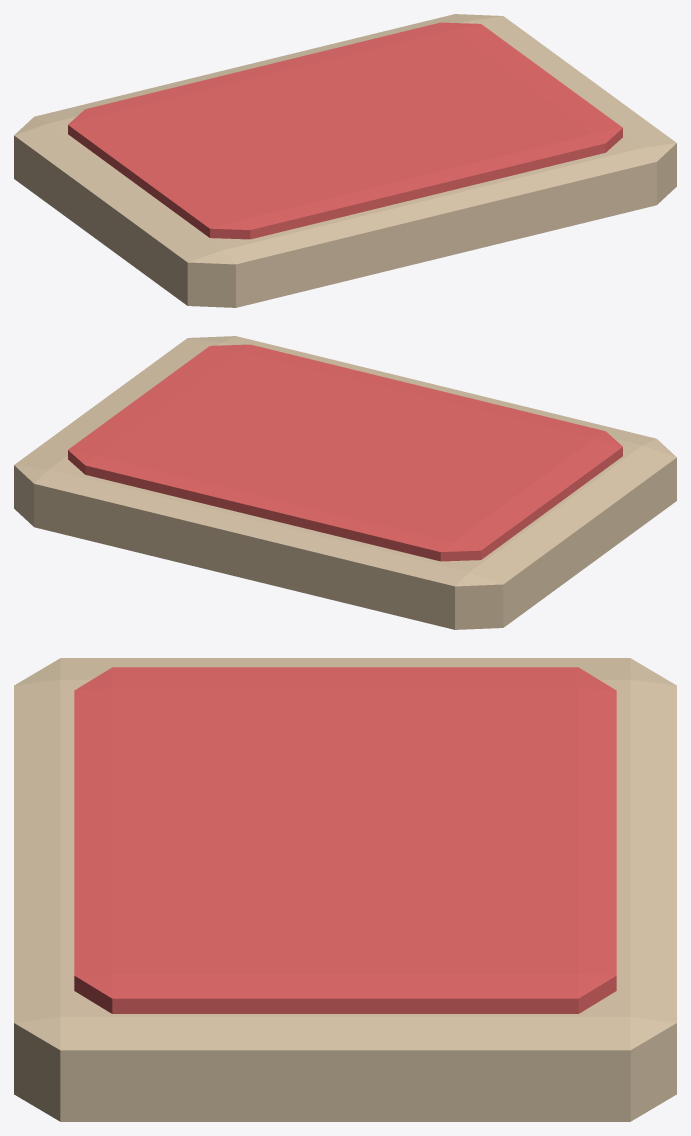
File: b16_crumpled_food_wrapper.glb
3 renders of one model, top to bottom at view 1: azimuth 30°, elevation 25°; view 2: azimuth 150°, elevation 25°; view 3: azimuth 270°, elevation 25°, orthographic. The views are drawn at different scales.
Parts seen in each view (by area): view 1: b16_crumpled_food_wrapper; view 2: b16_crumpled_food_wrapper; view 3: b16_crumpled_food_wrapper.
Boxes of the visible parts, x1,y1,x2,y2 form: b16_crumpled_food_wrapper: (14, 14, 676, 307); b16_crumpled_food_wrapper: (14, 336, 676, 629); b16_crumpled_food_wrapper: (14, 658, 676, 1121).
Size of the model in its own units: 0.21 by 0.025 by 0.15.
